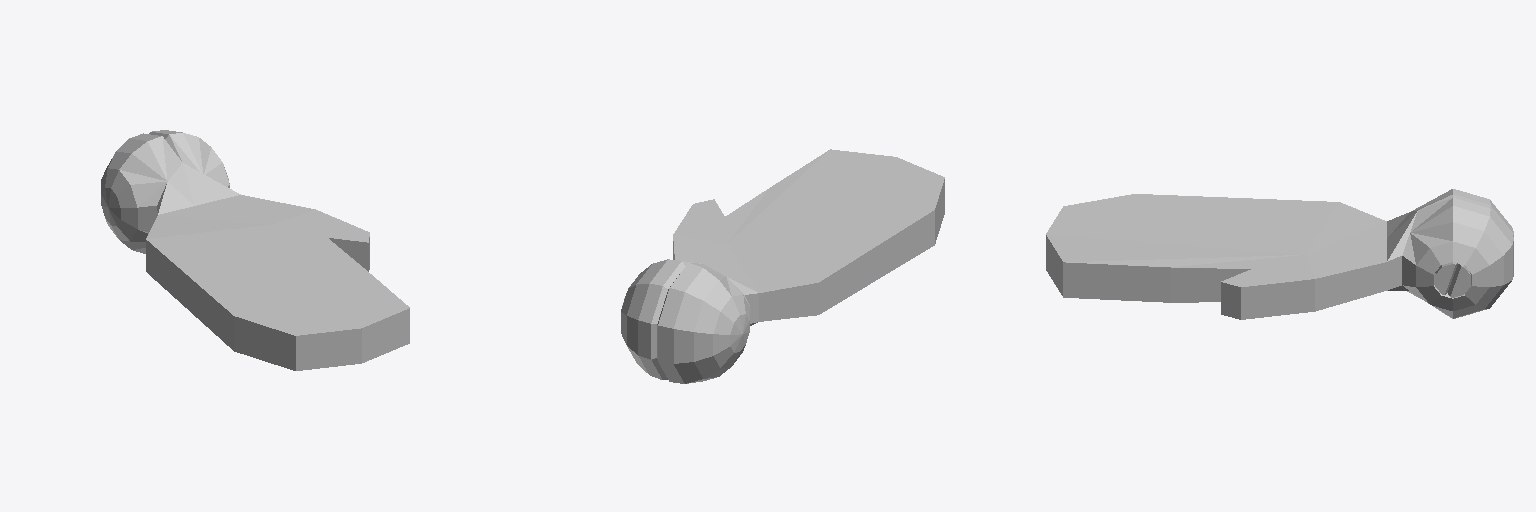
Rendered from hand.obj.
The picture shows the model from 3 angles: view 1: azimuth 30°, elevation 25°; view 2: azimuth 150°, elevation 25°; view 3: azimuth 270°, elevation 25°; orthographic projection.
Visible parts, largest first — view 1: Plane; view 2: Plane; view 3: Plane.
Part boxes in pixels (x1,y1,x2,y2): Plane: (101,130,409,370); Plane: (621,149,944,383); Plane: (1046,189,1513,319).
Size of the model in its own units: 2.83 by 1.67 by 6.08.